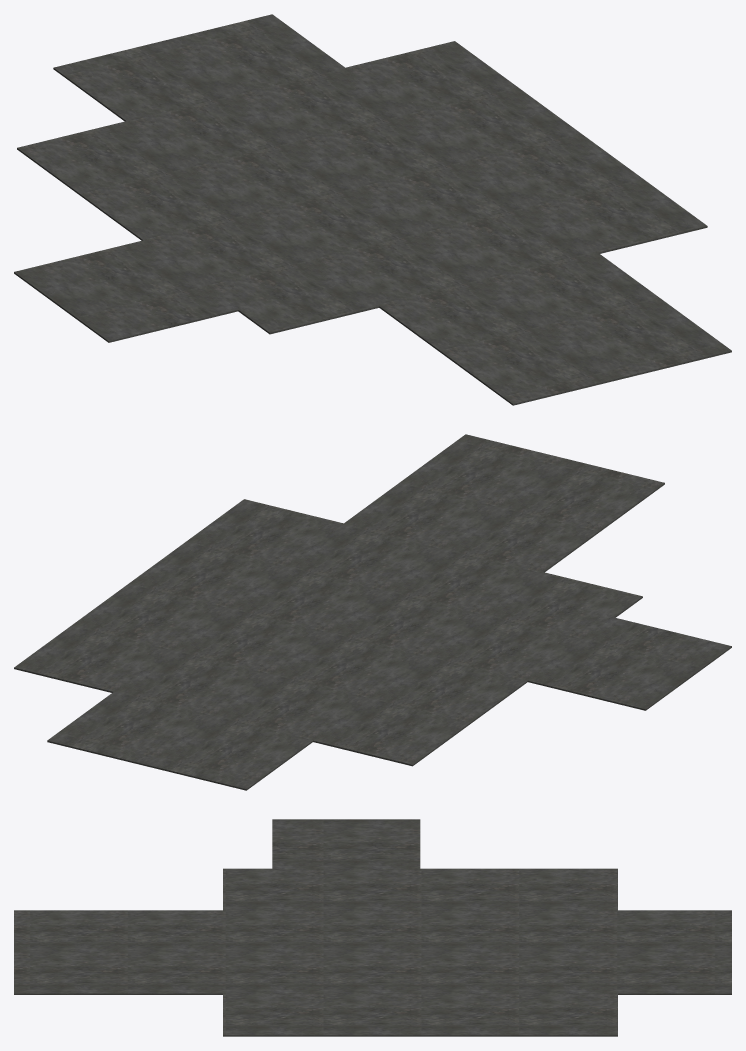
Rendered from mdlTecho.obj.
3 views of the same model, one above another, from view 1: azimuth 30°, elevation 25°; view 2: azimuth 150°, elevation 25°; view 3: azimuth 270°, elevation 25° (orthographic). The views are drawn at different scales.
Visible parts, largest first — view 1: mdlMapaBajo.001; view 2: mdlMapaBajo.001; view 3: mdlMapaBajo.001.
Part boxes in pixels (x1,y1,x2,y2): mdlMapaBajo.001: (14,14,731,405); mdlMapaBajo.001: (14,434,731,790); mdlMapaBajo.001: (14,819,731,1036).
Bounding box in the file's own units: 32.39 × 0.0905 × 45.45.
1 material, 1 textured.
